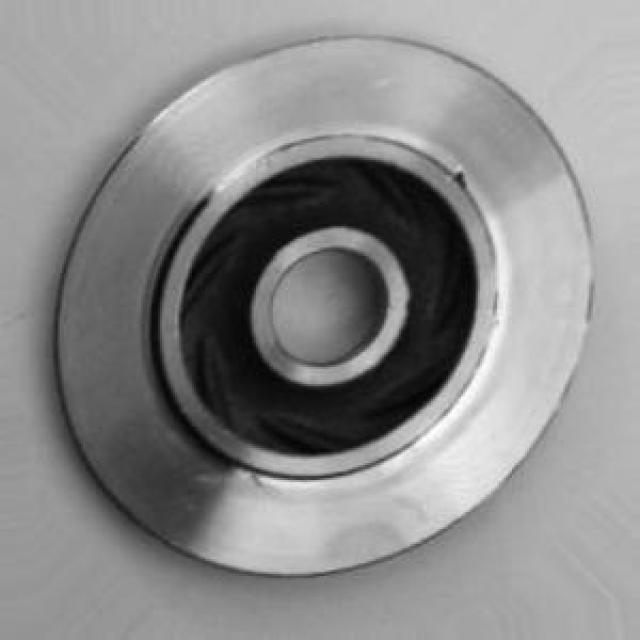Defect: (451, 165, 479, 192)
